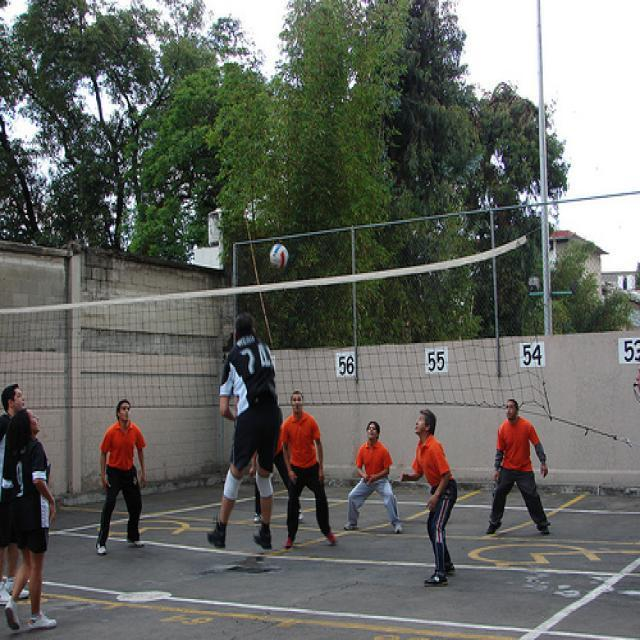volleyball: (270, 244, 288, 272)
